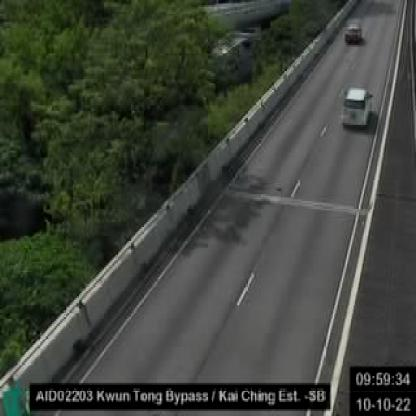Car: (341, 86, 372, 131), (346, 22, 364, 43)
